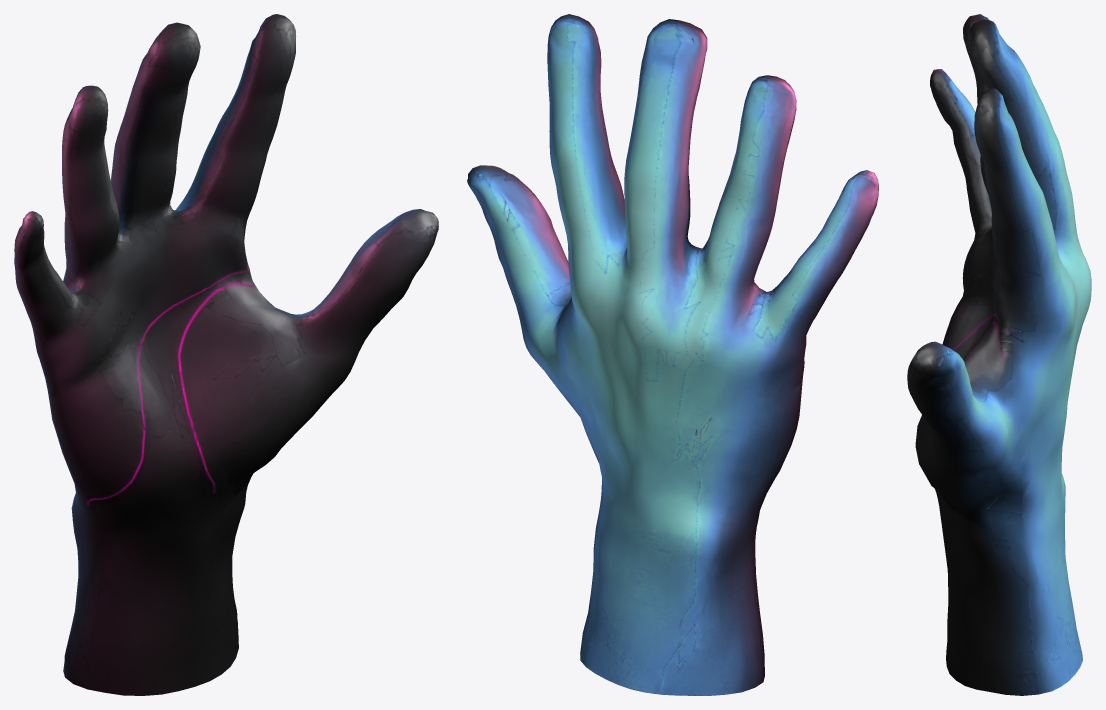
3 renders of one model, left to right at view 1: azimuth 30°, elevation 25°; view 2: azimuth 150°, elevation 25°; view 3: azimuth 270°, elevation 25°, orthographic.
Parts seen in each view (by area): view 1: Male_hand_40plus; view 2: Male_hand_40plus; view 3: Male_hand_40plus.
Boxes of the visible parts, x1=… form: Male_hand_40plus: x1=14, y1=14, x2=438, y2=695; Male_hand_40plus: x1=467, y1=14, x2=878, y2=695; Male_hand_40plus: x1=907, y1=14, x2=1091, y2=695.
Bounding box in the file's own units: 2.61 × 3.9 × 1.01.
1 material, 1 textured.
